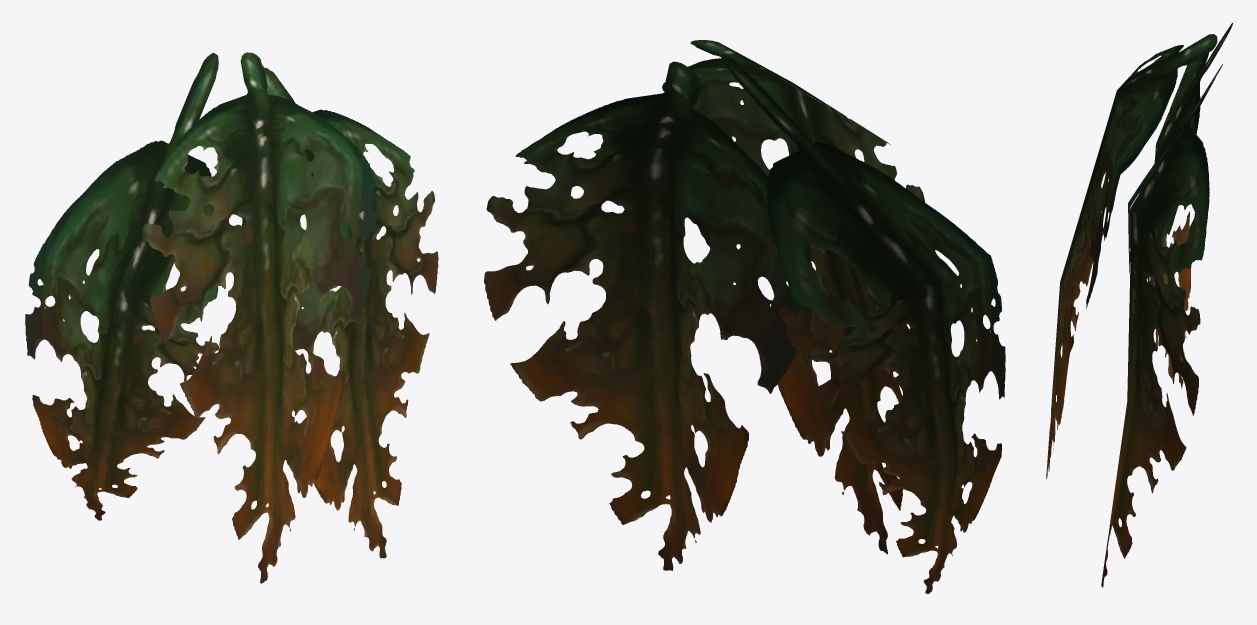
Rendered from stemple_broadleaf_straight_02.fbx.
3 renders of one model, left to right at view 1: azimuth 30°, elevation 25°; view 2: azimuth 150°, elevation 25°; view 3: azimuth 270°, elevation 25°, orthographic. The views are drawn at different scales.
Parts seen in each view (by area): view 1: sunken_tileset/sunken_plants01_mat; view 2: sunken_tileset/sunken_plants01_mat; view 3: sunken_tileset/sunken_plants01_mat.
Part boxes in pixels (x1,y1,x2,y2): sunken_tileset/sunken_plants01_mat: (25, 52, 438, 583); sunken_tileset/sunken_plants01_mat: (484, 40, 1005, 593); sunken_tileset/sunken_plants01_mat: (1046, 23, 1233, 587).
Bounding box in the file's own units: 2.28 × 2.71 × 0.8697.
